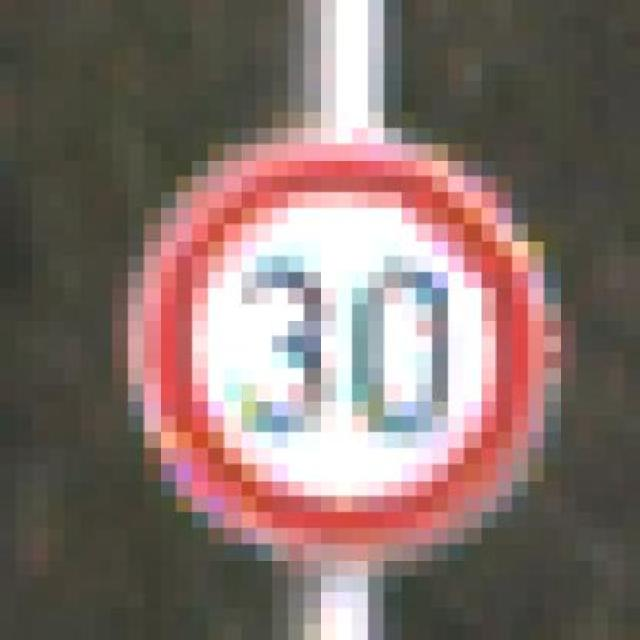Speed Limit 30 KMPh: (80, 96, 592, 576)
